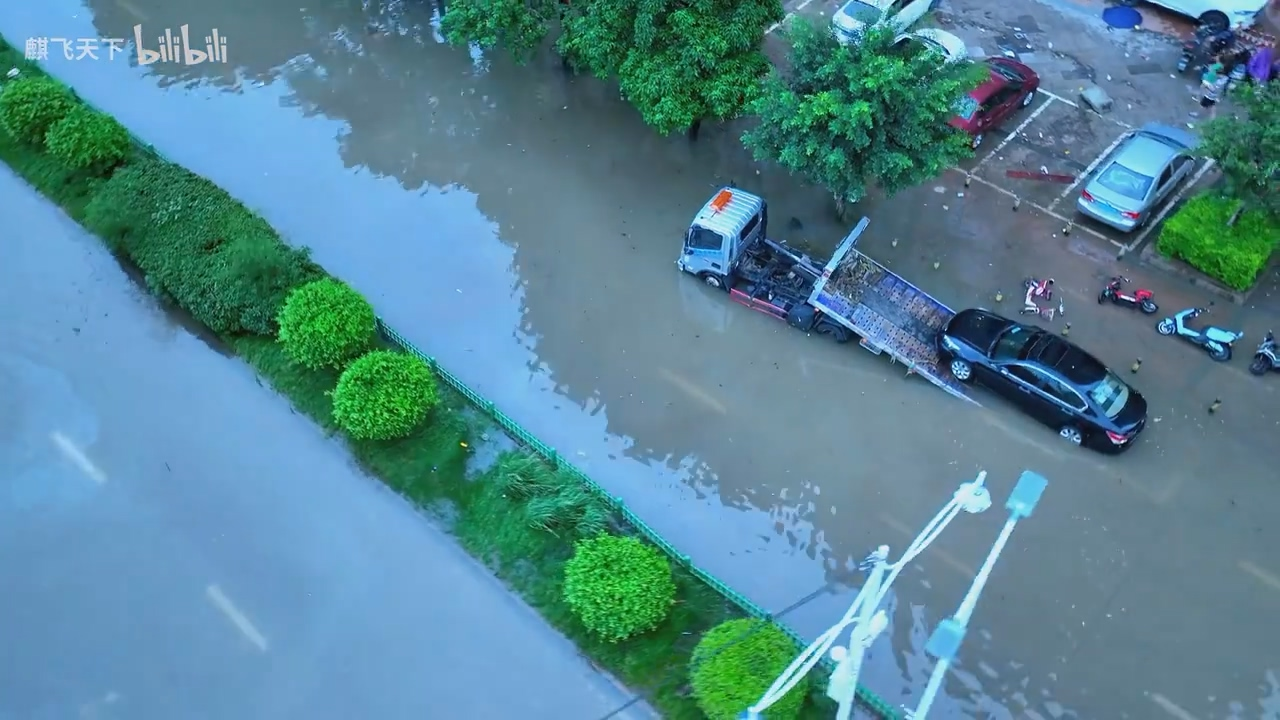puddle: (559, 145, 1243, 647), (12, 378, 501, 720)
